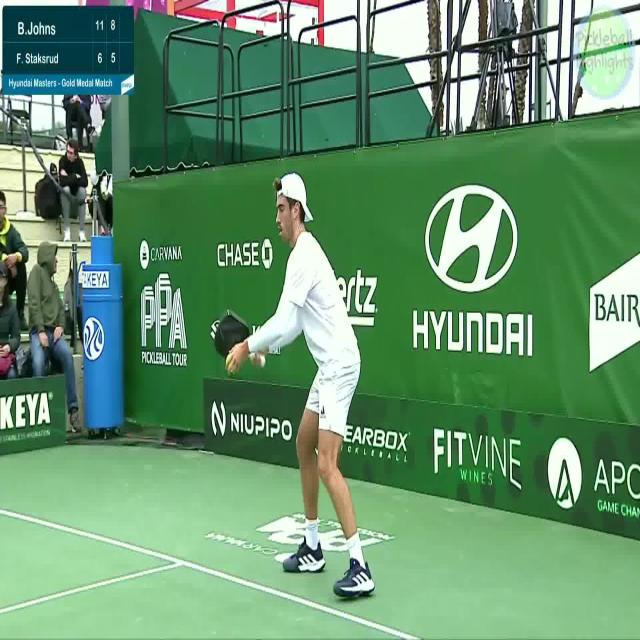ball: (217, 339, 242, 386)
